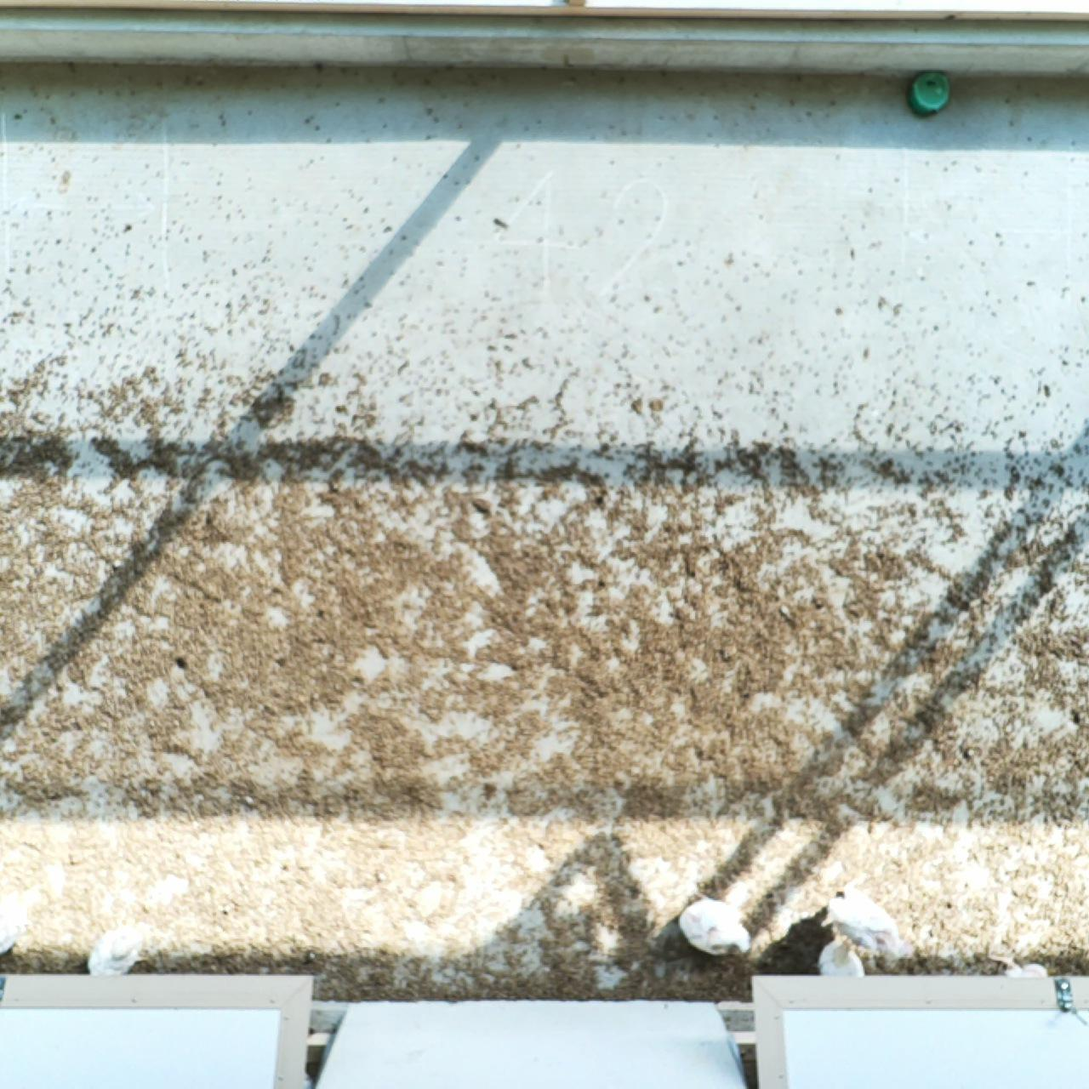chicken: (822, 885, 912, 961), (678, 895, 754, 956), (86, 925, 148, 980), (814, 936, 870, 978), (986, 952, 1051, 981), (0, 908, 17, 956)
